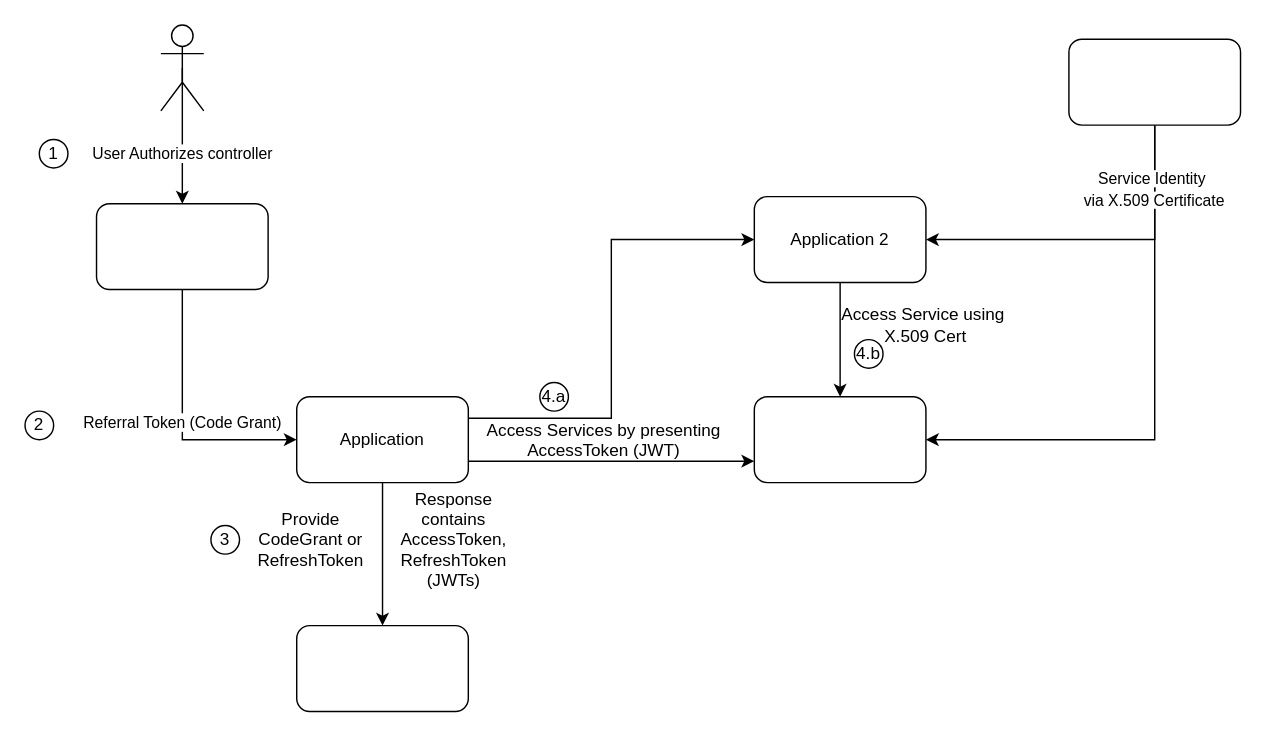
This 1266x736 diagram has some shape labels left out. The centre of each missing label's shape, as x and y in pixels:
"Application 3" goes at (x=839, y=439).
"Enterprise/Public CA" goes at (x=1154, y=81).
"IaaS/PaaS Controller" goes at (x=181, y=246).
"IdP" goes at (x=381, y=667).
